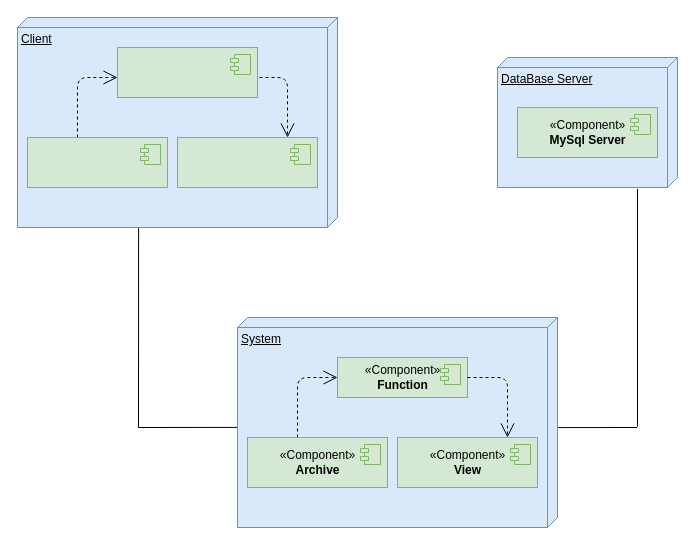
The diagram is 695 pixels wide and 545 high, and some of its shapes have lost their labels. The shapes that lost their labels are listed below. From the top down, each one's centre as x and y in pixels, then its label:
At [187,72]: "«Component» Browser".
At [97,162]: "«Component» JavaScript".
At [247,162]: "«Component» Operating System".
